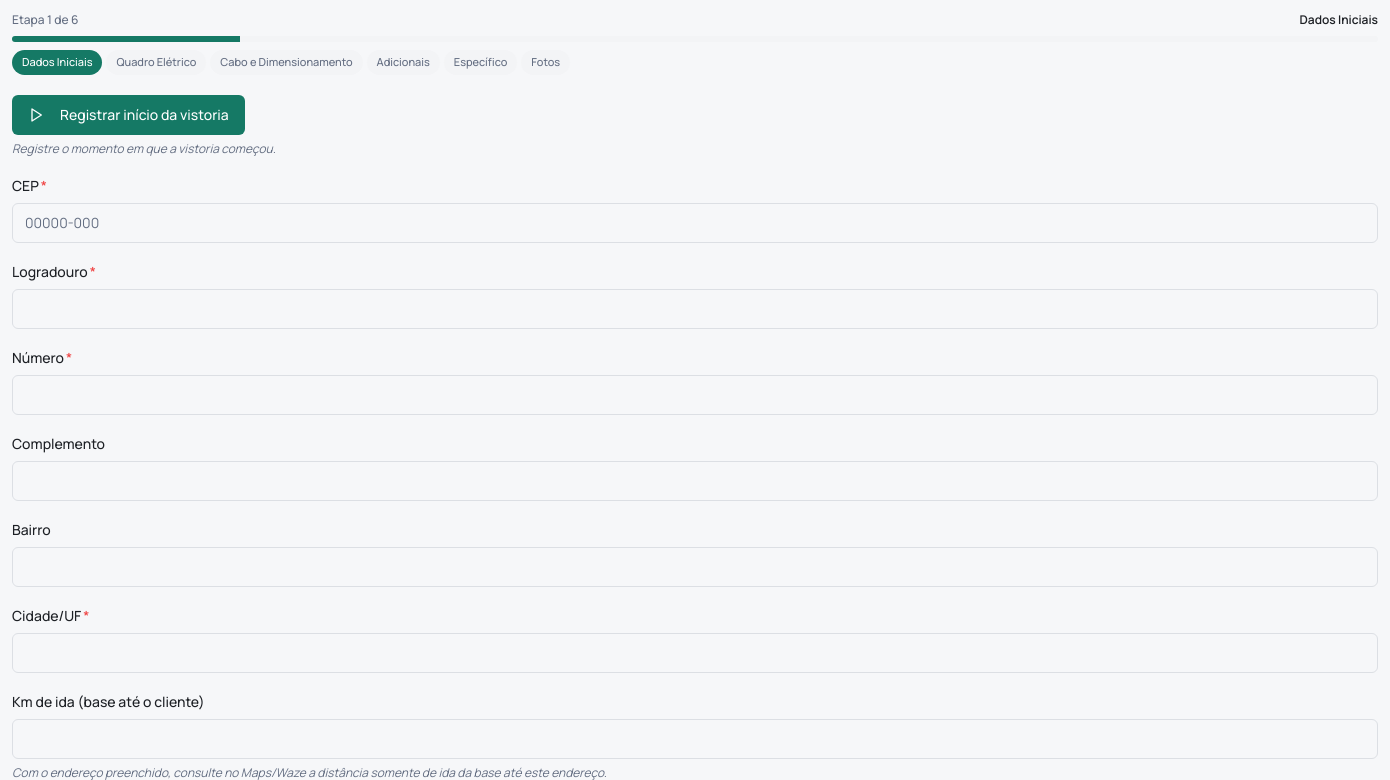
Test case: Checklist guiado — Vistoria EV › renderiza os 8 slots de fotos com obrigatoriedade na aba Fotos
Click the button "Fotos" at (546, 62), box [521,50,570,74]
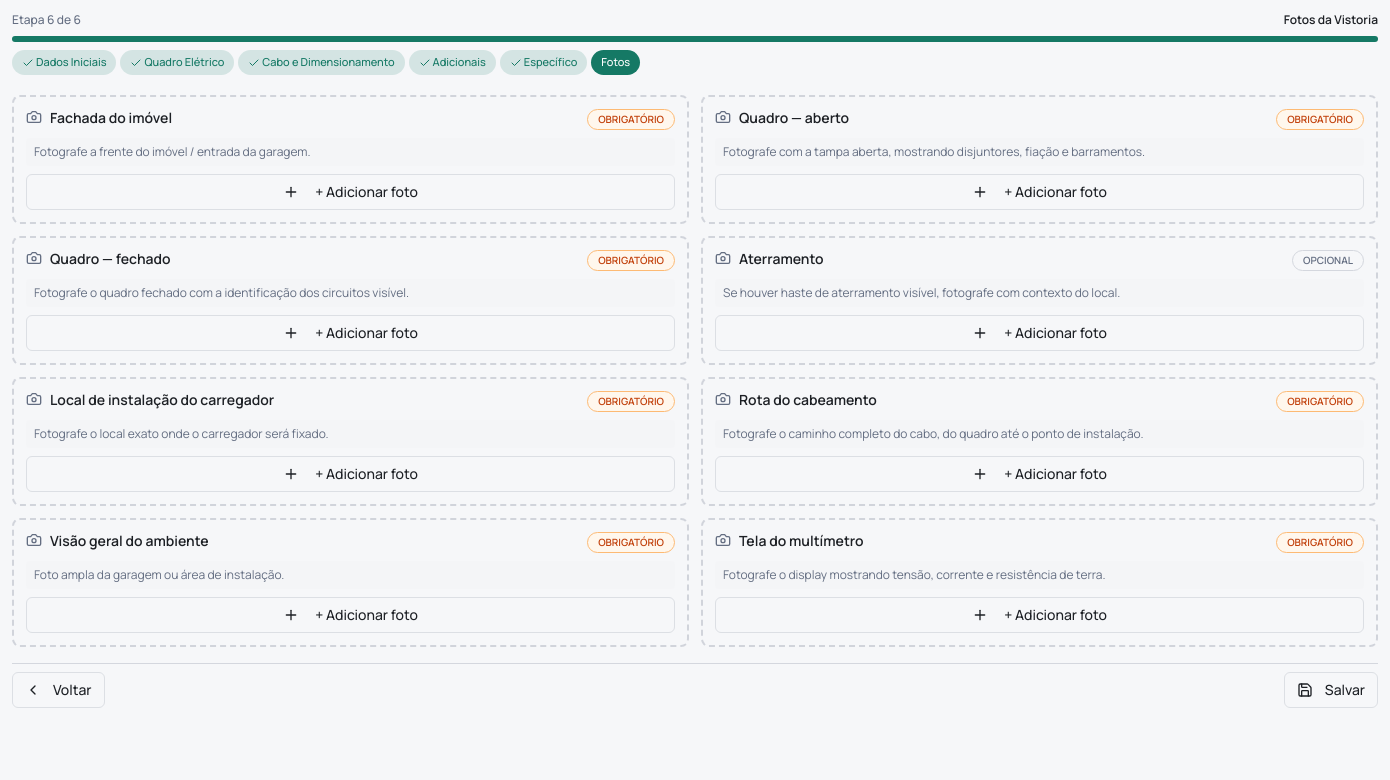
Check: the text "Fachada do imóvel" is shown, box [50,108,172,126]
Check: the text "Tela do multímetro" is shown, box [739,532,864,549]
Check: the text "OBRIGATÓRIO" is shown 7 times
